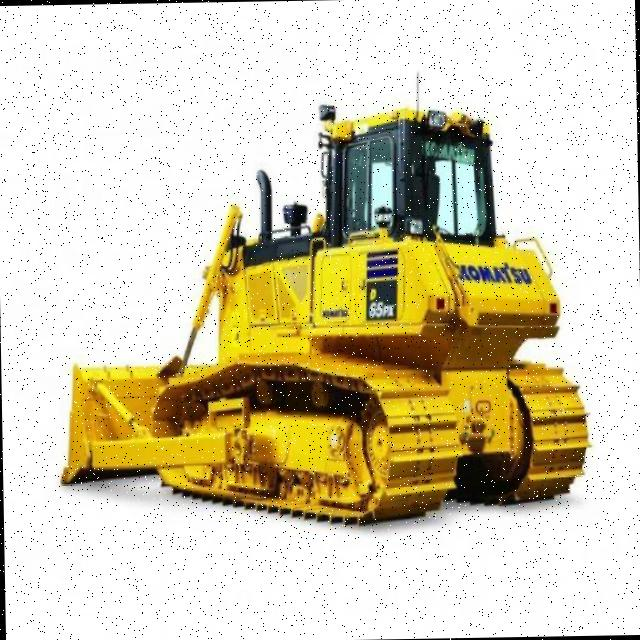Bulldozer: (60, 93, 592, 535)
